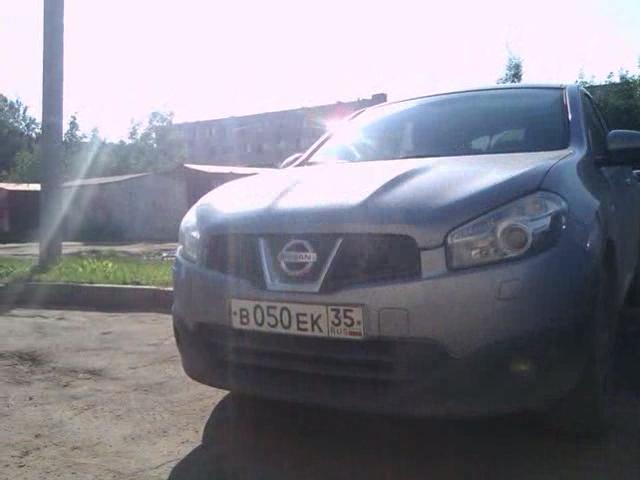car license plate: (228, 295, 367, 347)
